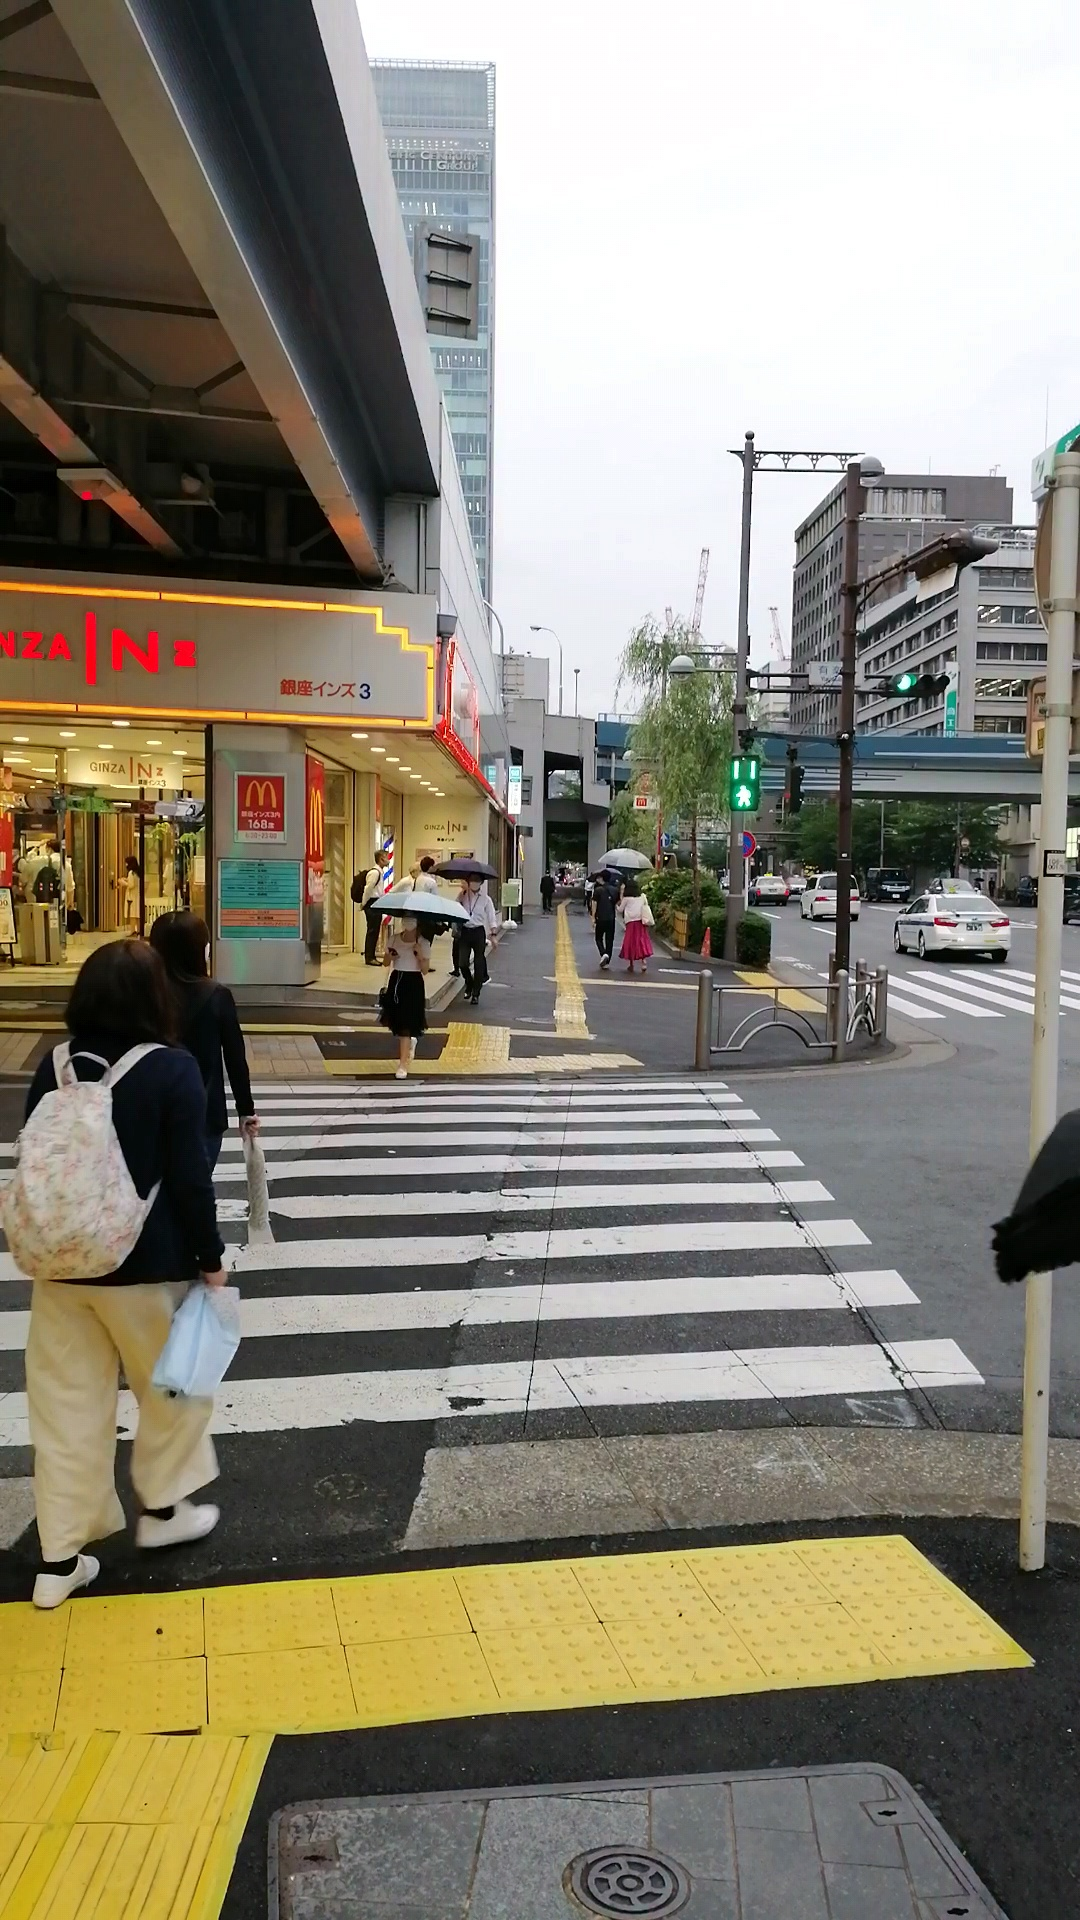green: (728, 756, 760, 811)
